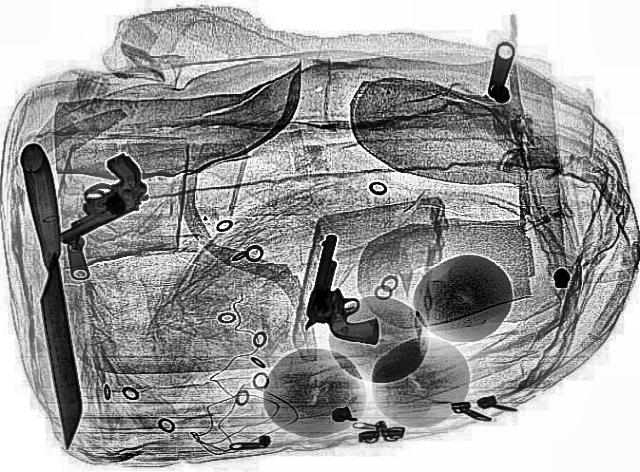Gun: (21, 150, 169, 244), (296, 232, 402, 344)
Knife: (18, 142, 86, 450)
